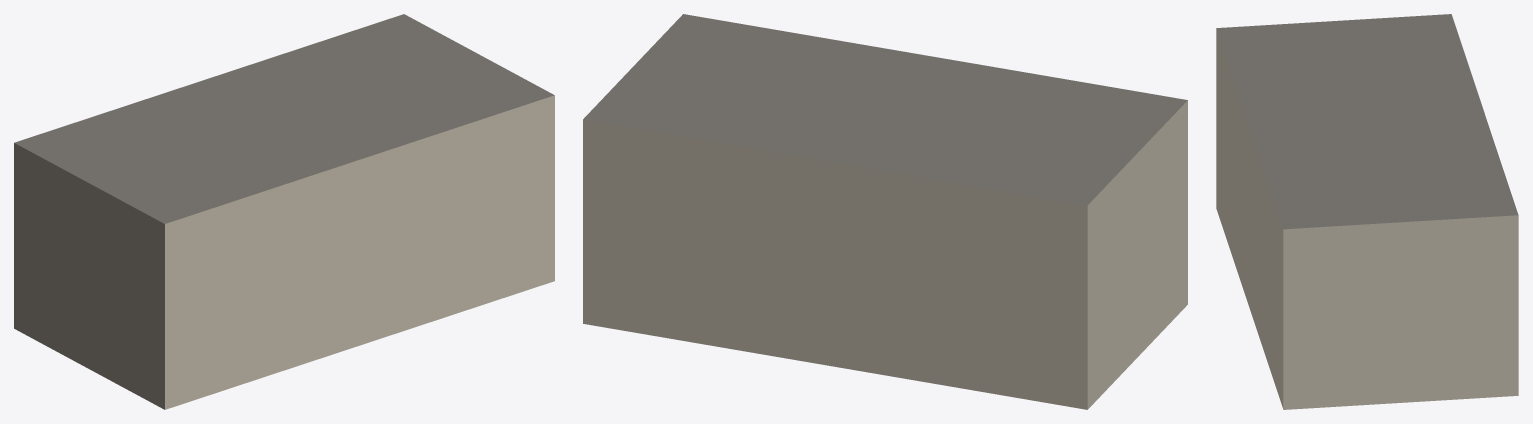
3 renders of one model, left to right at view 1: azimuth 30°, elevation 25°; view 2: azimuth 150°, elevation 25°; view 3: azimuth 270°, elevation 25°, orthographic. The views are drawn at different scales.
Visible parts, largest first — view 1: HP-w1286956098; view 2: HP-w1286956098; view 3: HP-w1286956098.
Boxes of the visible parts, bbox=[...] form: HP-w1286956098: bbox=[14, 14, 554, 409]; HP-w1286956098: bbox=[583, 14, 1187, 409]; HP-w1286956098: bbox=[1216, 14, 1518, 409].
Bounding box in the file's own units: 46.03 × 18 × 27.29.
